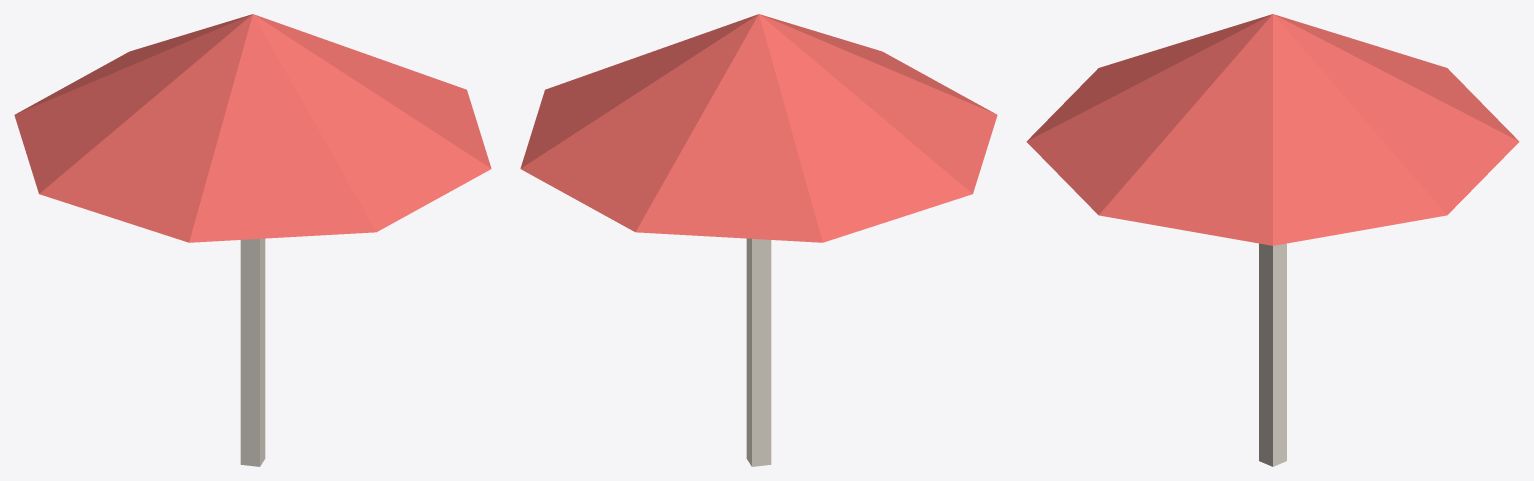
File: prop_beach_umbrella.glb
The picture shows the model from 3 angles, left to right: view 1: azimuth 30°, elevation 25°; view 2: azimuth 150°, elevation 25°; view 3: azimuth 270°, elevation 25°; orthographic projection.
Visible parts, largest first — view 1: prop_beach_umbrella; view 2: prop_beach_umbrella; view 3: prop_beach_umbrella.
Boxes of the visible parts, x1=… form: prop_beach_umbrella: x1=14, y1=14, x2=491, y2=466; prop_beach_umbrella: x1=520, y1=14, x2=997, y2=466; prop_beach_umbrella: x1=1026, y1=14, x2=1519, y2=466.
Bounding box in the file's own units: 0.14 × 0.14 × 0.14.
